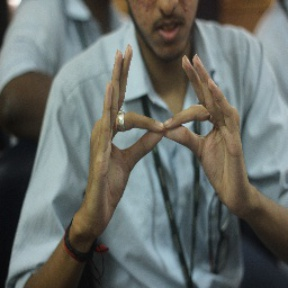B: (104, 93, 229, 174)
